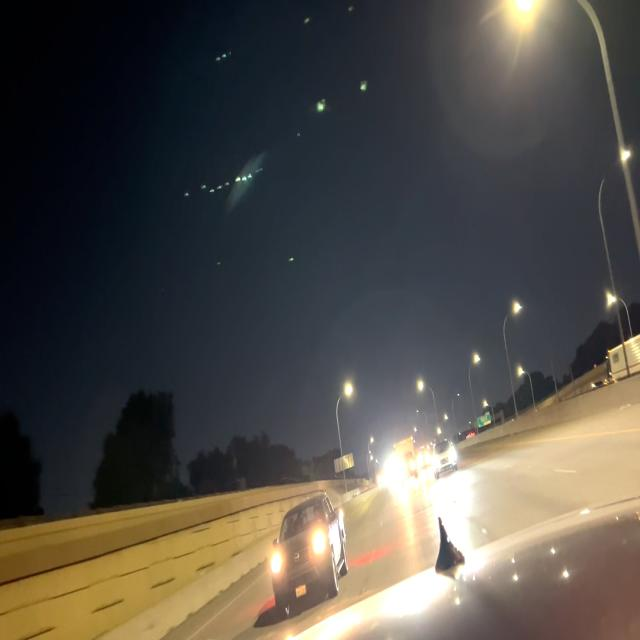back-of-sign: (333, 453, 355, 475)
